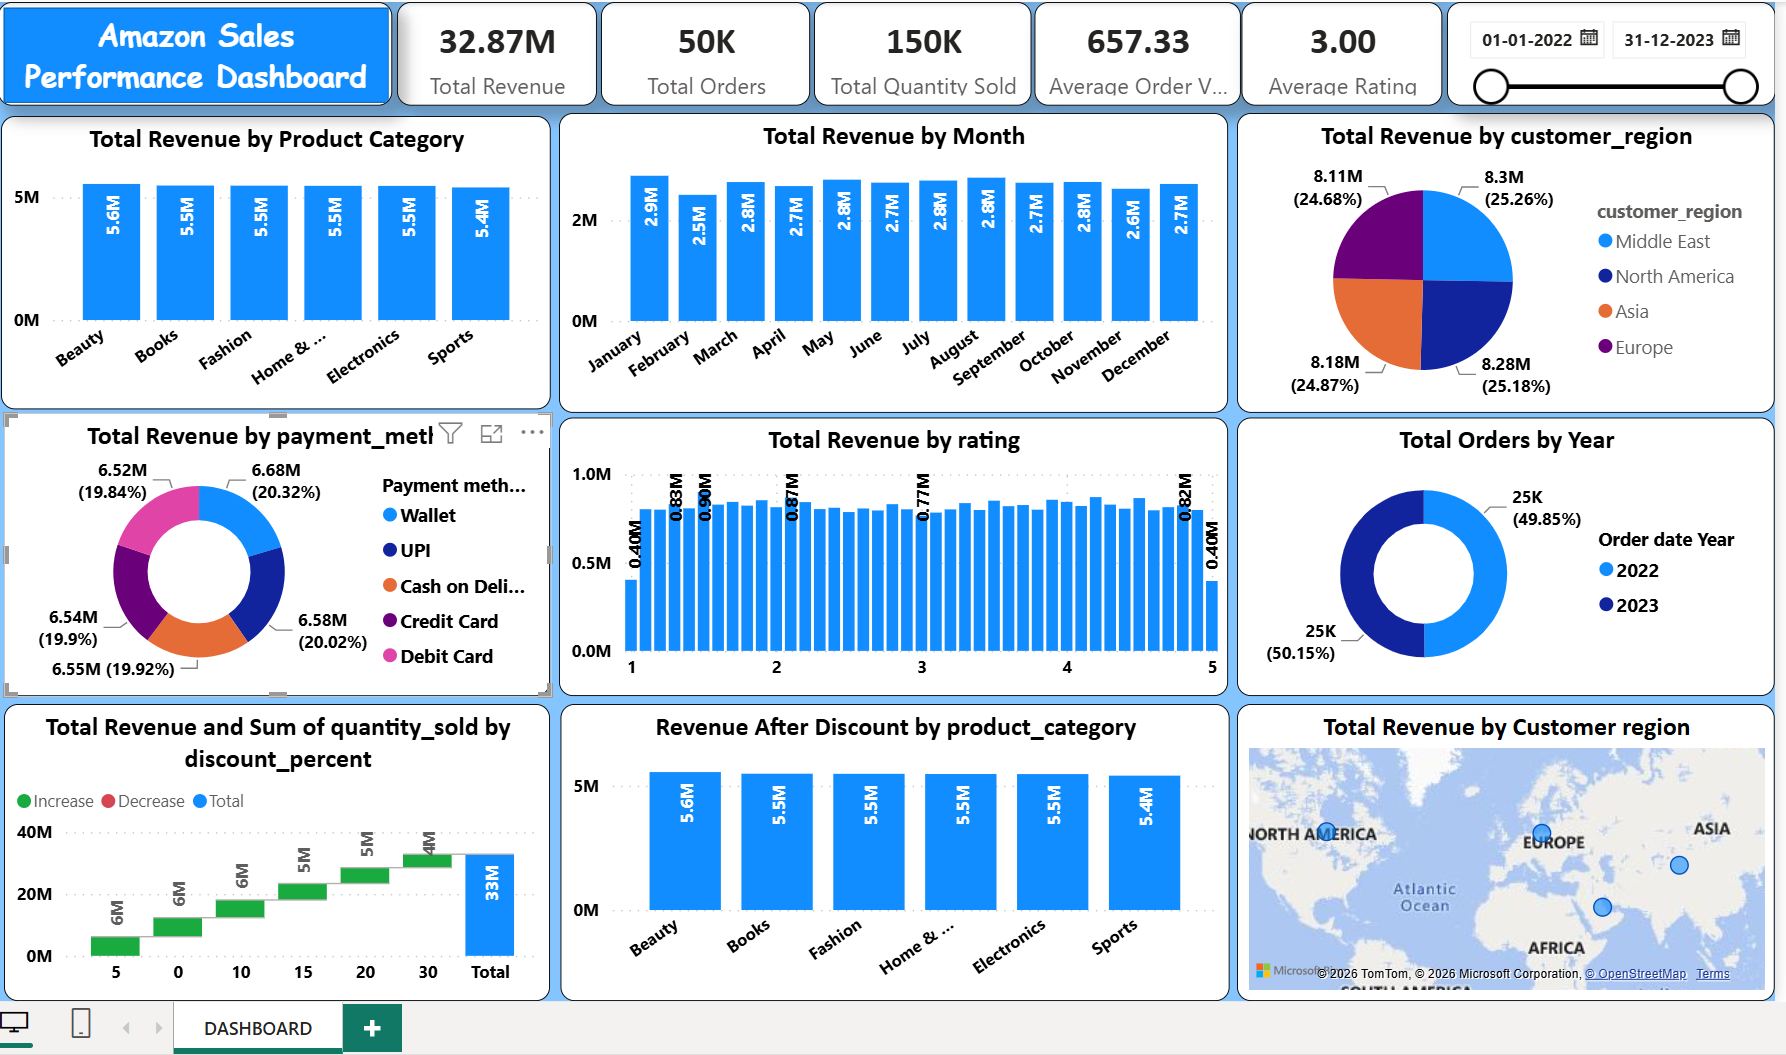

The dashboard page shown, as its layout file describes it:
{"tool":"powerbi","page":{"name":"DASHBOARD","canvas":[1280,720],"ordinal":0},"visuals":[{"type":"card","fields":{"Values":["amazon_sales_dataset.Total Revenue"]},"box":[287.4,0,148.5,74.9],"z":0},{"type":"card","fields":{"Values":["amazon_sales_dataset.Total Orders"]},"box":[439.5,0,157,74.9],"z":1000},{"type":"card","fields":{"Values":["amazon_sales_dataset.Total Quantity Sold"]},"box":[598.9,0,154.6,74.9],"z":2000},{"type":"card","title":"Average Value","fields":{"Values":["amazon_sales_dataset.Average Order Value"]},"box":[755.9,0,148.5,74.9],"z":3000},{"type":"card","fields":{"Values":["amazon_sales_dataset.Average Rating"]},"box":[912.1,0,149.8,74.4],"z":4000},{"type":"columnChart","fields":{"Category":["amazon_sales_dataset.product_category"],"Y":["amazon_sales_dataset.Total Revenue"]},"box":[2.4,82.1,396.1,211.3],"z":5000},{"type":"columnChart","fields":{"Y":["amazon_sales_dataset.Total Revenue"],"Category":["amazon_sales_dataset.order_date.Variation.Date Hierarchy.Month"]},"box":[404.5,79.7,481.8,216.2],"z":6000},{"type":"pieChart","fields":{"Category":["amazon_sales_dataset.customer_region"],"Y":["amazon_sales_dataset.Total Revenue"]},"box":[892.4,79.7,387.6,216.2],"z":7000},{"type":"donutChart","fields":{"Category":["amazon_sales_dataset.payment_method"],"Y":["amazon_sales_dataset.Total Revenue"]},"box":[4.8,295.8,393.7,204.1],"z":8000},{"type":"waterfallChart","fields":{"Category":["amazon_sales_dataset.discount_percent"],"Y":["amazon_sales_dataset.Total Revenue"]},"box":[4.8,506,393.7,213.7],"z":9000},{"type":"columnChart","fields":{"Category":["amazon_sales_dataset.rating"],"Y":["amazon_sales_dataset.Total Revenue"]},"box":[404.5,299.5,481.8,200.5],"z":10000},{"type":"slicer","fields":{"Values":["amazon_sales_dataset.order_date"]},"box":[1061.4,0,218.6,74.9],"z":11000},{"type":"shape","box":[0,0,283.8,74.9],"z":12000},{"type":"columnChart","fields":{"Category":["amazon_sales_dataset.product_category"],"Y":["amazon_sales_dataset.Revenue After Discount"]},"box":[405.7,506,481.8,213.7],"z":13000},{"type":"map","title":"Total Revenue by Customer region","fields":{"Category":["amazon_sales_dataset.customer_region"],"Size":["amazon_sales_dataset.Total Revenue"]},"box":[892.4,506,387.6,213.7],"z":14000},{"type":"donutChart","fields":{"Category":["amazon_sales_dataset.order_date.Variation.Date Hierarchy.Year"],"Y":["amazon_sales_dataset.Total Orders"]},"box":[892.4,299.5,387.6,200.5],"z":15000}]}

Visuals, with their boxes in screenshot pixels (x1, y1, x2, y2):
card - amazon_sales_dataset.Total Revenue: bbox=(395, 0, 600, 103)
card - amazon_sales_dataset.Total Orders: bbox=(605, 0, 821, 103)
card - amazon_sales_dataset.Total Quantity Sold: bbox=(824, 0, 1037, 103)
"Average Value" card: bbox=(1040, 0, 1244, 103)
card - amazon_sales_dataset.Average Rating: bbox=(1255, 0, 1461, 102)
columnChart - amazon_sales_dataset.product_category x amazon_sales_dataset.Total Revenue: bbox=(3, 113, 548, 404)
columnChart - amazon_sales_dataset.Total Revenue x amazon_sales_dataset.order_date.Variation.Date Hierarchy.Month: bbox=(557, 110, 1220, 407)
pieChart - amazon_sales_dataset.customer_region x amazon_sales_dataset.Total Revenue: bbox=(1228, 110, 1761, 407)
donutChart - amazon_sales_dataset.payment_method x amazon_sales_dataset.Total Revenue: bbox=(7, 407, 548, 688)
waterfallChart - amazon_sales_dataset.discount_percent x amazon_sales_dataset.Total Revenue: bbox=(7, 696, 548, 990)
columnChart - amazon_sales_dataset.rating x amazon_sales_dataset.Total Revenue: bbox=(557, 412, 1220, 688)
slicer - amazon_sales_dataset.order_date: bbox=(1461, 0, 1761, 103)
shape: bbox=(0, 0, 391, 103)
columnChart - amazon_sales_dataset.product_category x amazon_sales_dataset.Revenue After Discount: bbox=(558, 696, 1221, 990)
"Total Revenue by Customer region" map: bbox=(1228, 696, 1761, 990)
donutChart - amazon_sales_dataset.order_date.Variation.Date Hierarchy.Year x amazon_sales_dataset.Total Orders: bbox=(1228, 412, 1761, 688)
